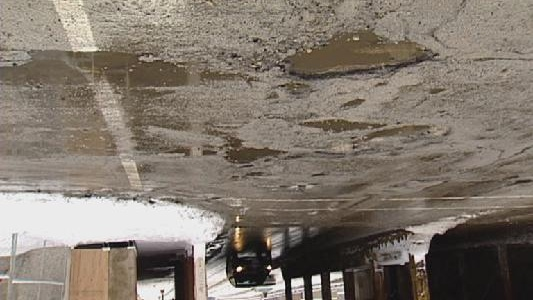pothole: (275, 27, 438, 82), (0, 46, 194, 91), (353, 120, 453, 148), (221, 145, 288, 169), (295, 117, 384, 134)
